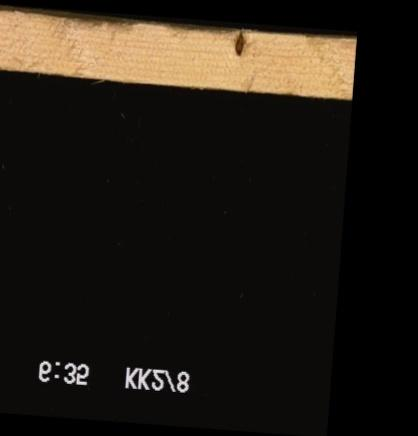dry_knot: (232, 30, 243, 58)
